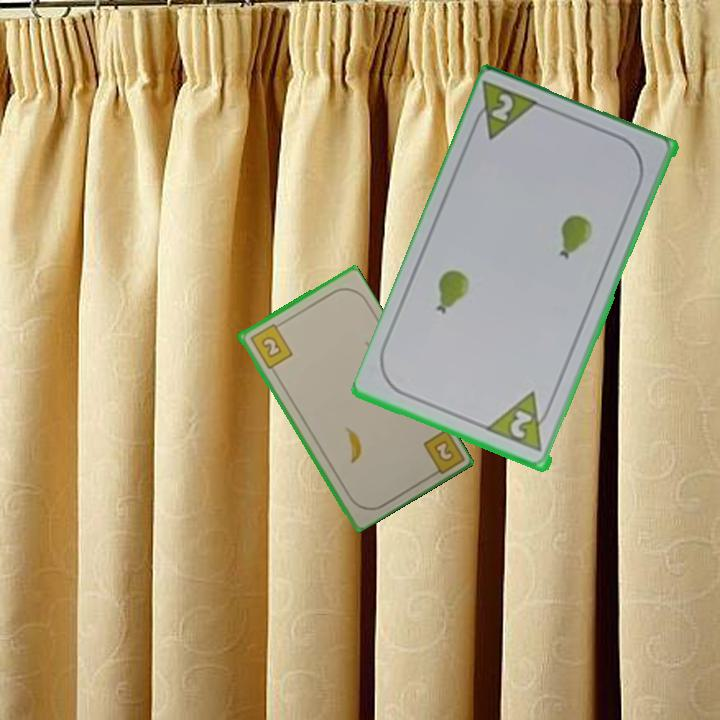2b: (246, 319, 295, 372), (419, 425, 465, 481)
2p: (467, 78, 545, 144), (485, 389, 557, 457)
